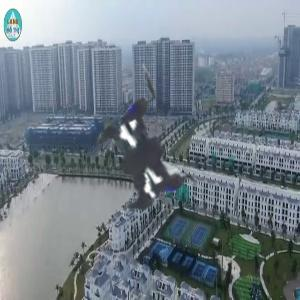drone: (20, 21, 283, 284)
